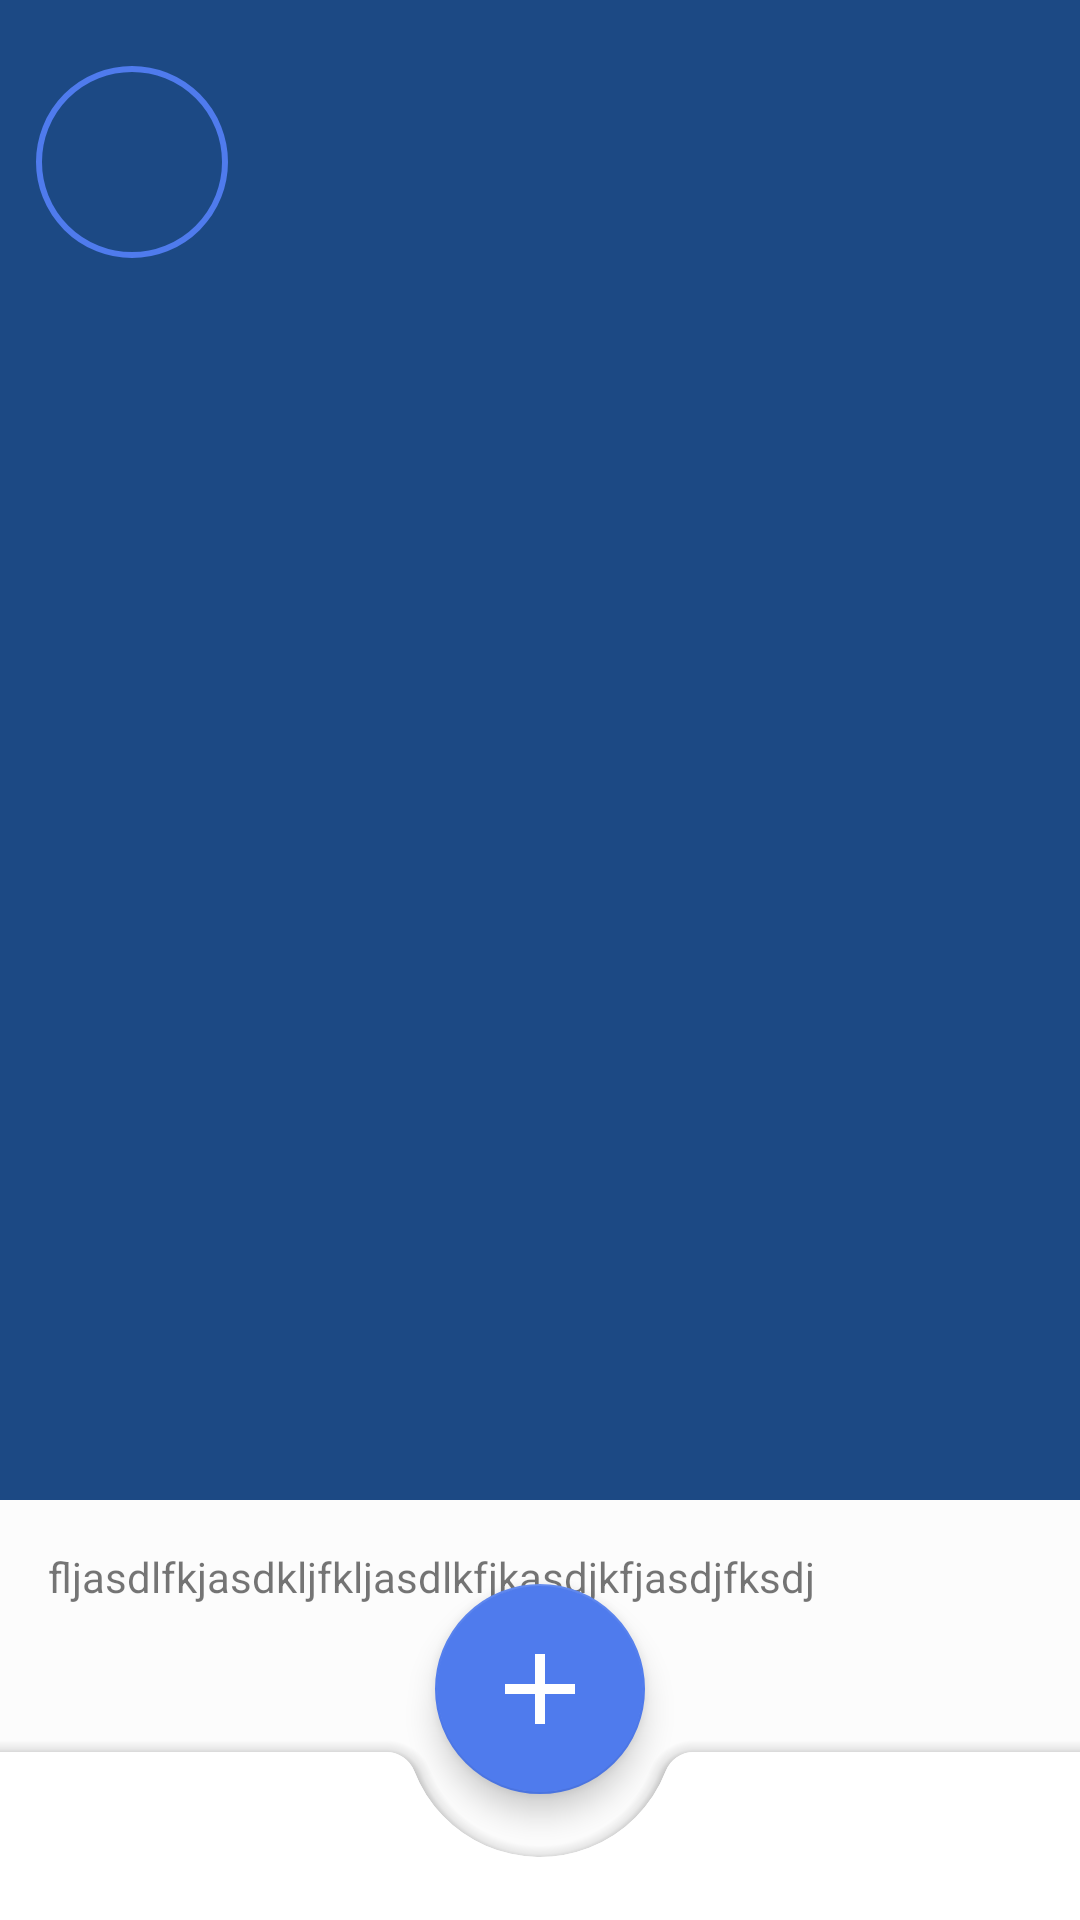

Screen size 1080px x 1920px. Icon name, then its center in pixels as (x=x, y=y):
add: (x=540, y=1719)
